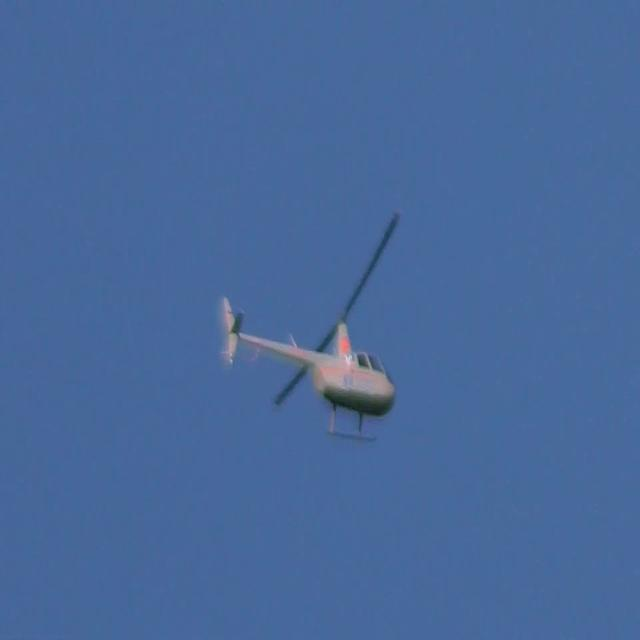CIV_HELO: (222, 295, 394, 445)
